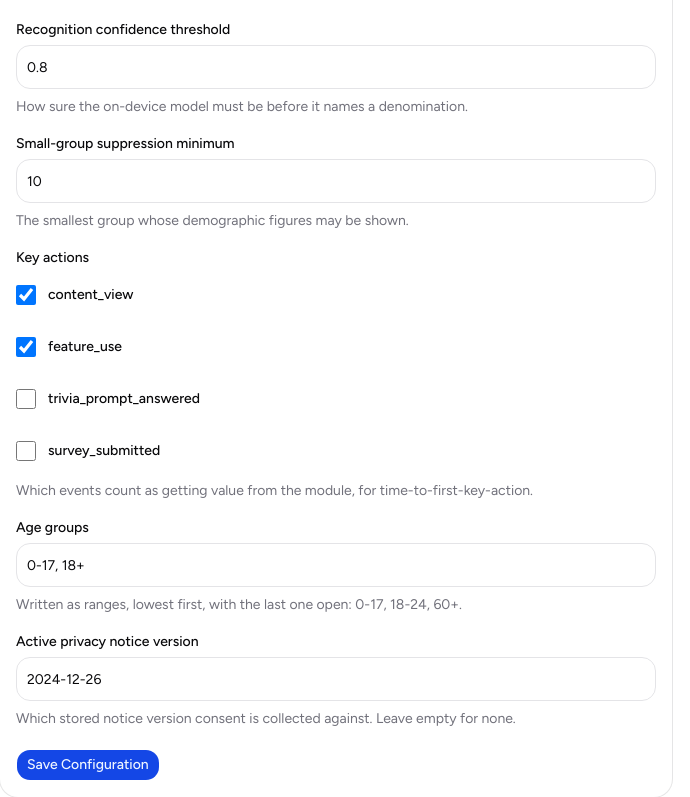
Test: ModuleConfigurationView › refuses age groups it cannot read, and says how to write them
The image size is (690, 797).
(page scrolled)
Replace the text in the field labelled "Age groups" with "young, old" at {"x": 336, "y": 565}, box [16,543,656,587]
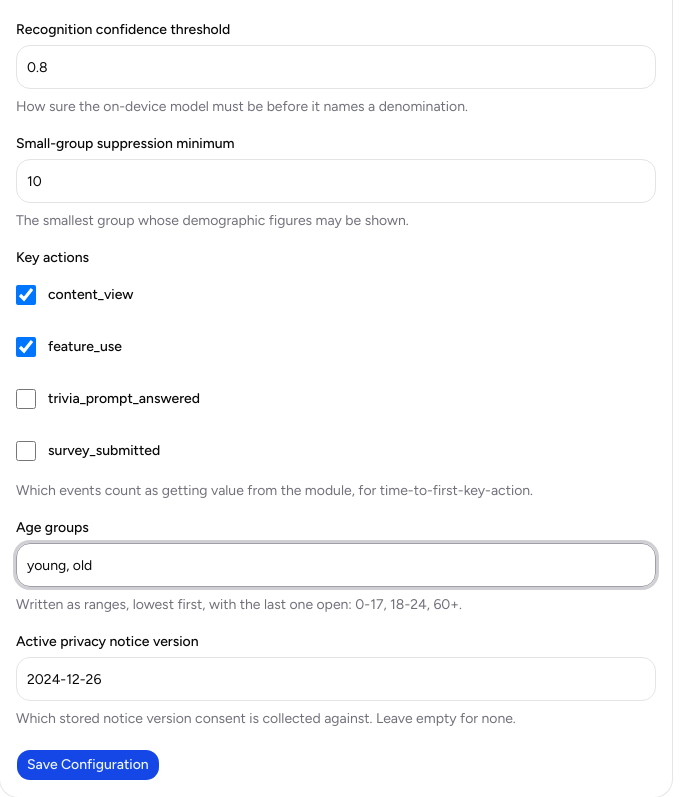
Click the button "Save Configuration" at {"x": 88, "y": 765}, box [16,749,160,781]
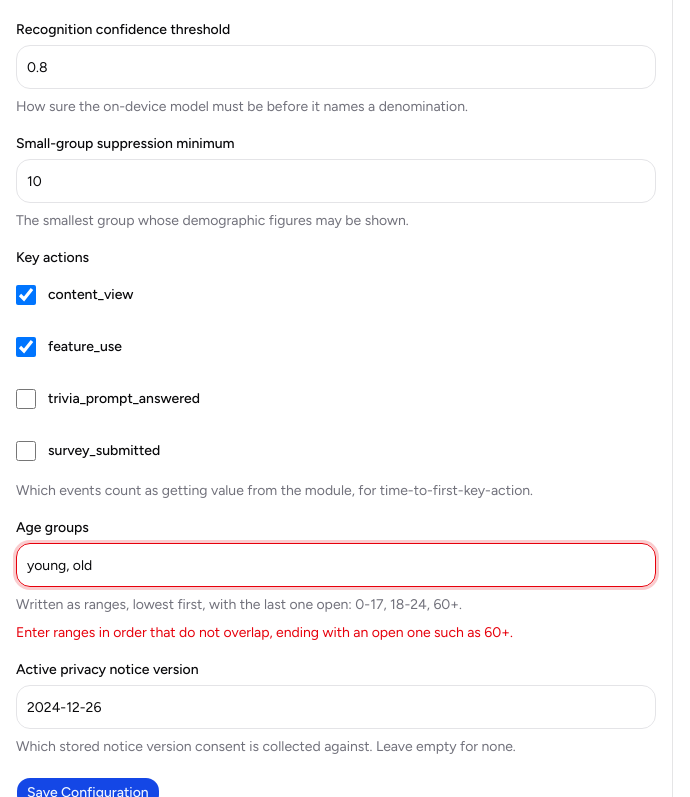
Expected: the text "ending with an open one such as 60+" is shown, [16,624,513,641]
